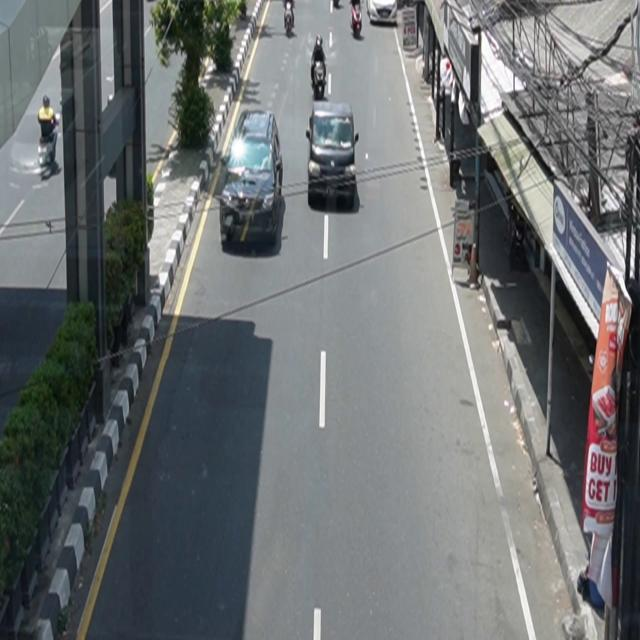car: (220, 109, 284, 246), (306, 101, 360, 209)
